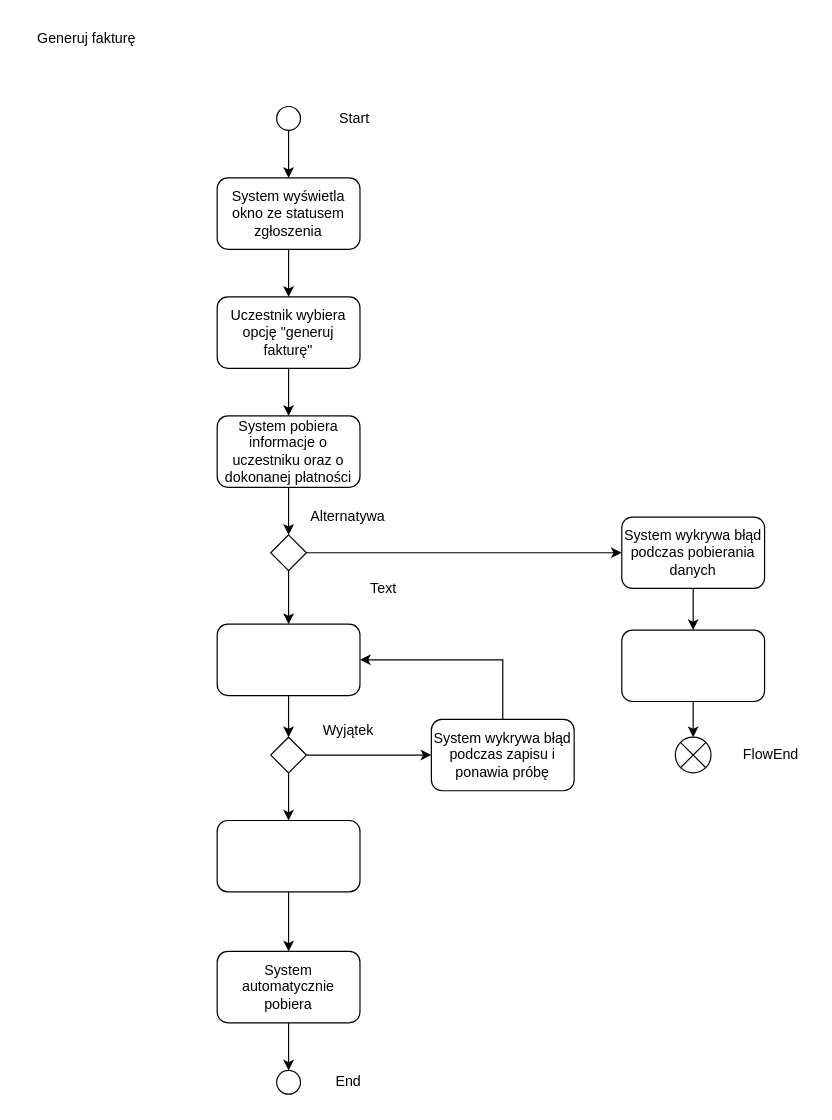
This 832x1120 diagram has some shape labels left out. The box of each missing label's shape, as (x1, y1, x2, y2) in pixels:
System generuje fakturę na podstawie pobranych danych: (216, 623, 360, 696)
System informuje uczestnika o błędzie i prosi o spróbowanie później: (621, 629, 765, 702)
System zapisuje fakturę: (216, 819, 360, 892)
